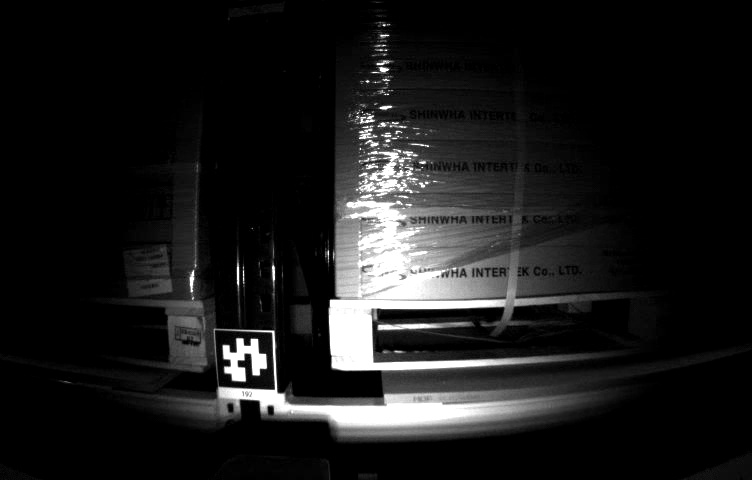True Barcode: (120, 247, 173, 294)
